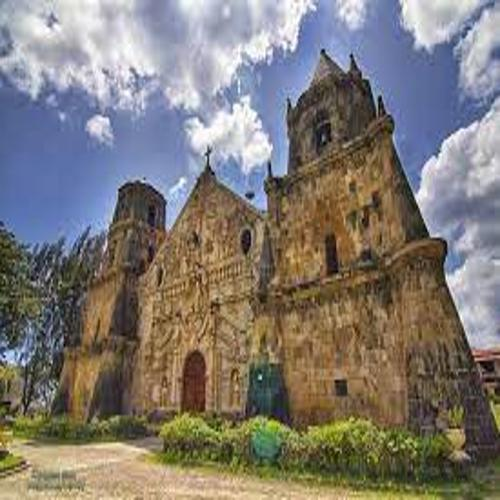Miagao Church: (61, 44, 499, 457)
